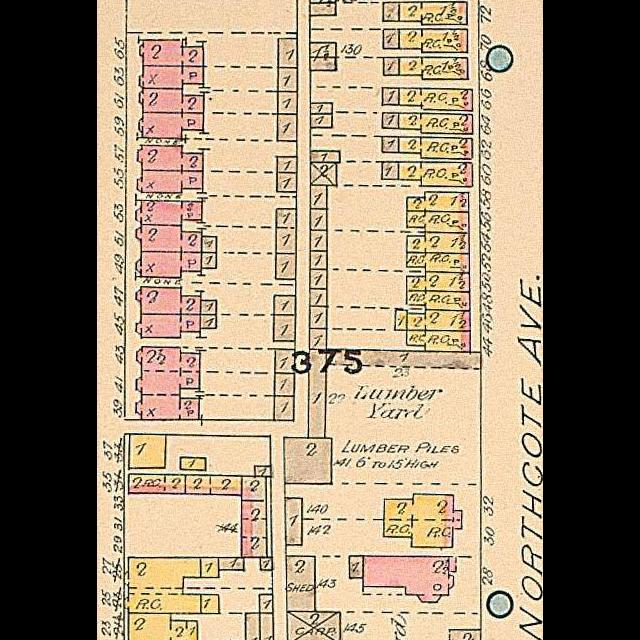building-footprints: (136, 347, 200, 419), (124, 558, 201, 614), (363, 556, 456, 602), (384, 494, 462, 547), (326, 351, 481, 368), (129, 475, 242, 495), (284, 437, 332, 484), (242, 476, 267, 557), (136, 224, 202, 253), (129, 614, 197, 640), (136, 287, 201, 314), (399, 162, 472, 186), (140, 40, 203, 67), (399, 88, 472, 111), (138, 113, 204, 138), (137, 146, 203, 171), (136, 252, 202, 277), (286, 556, 315, 612), (399, 137, 472, 159), (136, 201, 202, 225), (139, 89, 204, 113), (136, 314, 200, 338), (399, 113, 472, 134), (399, 2, 467, 24), (399, 30, 467, 52), (287, 612, 340, 640), (139, 66, 203, 89), (137, 171, 203, 193), (399, 58, 468, 79), (309, 350, 325, 438), (406, 330, 470, 352), (407, 211, 469, 233), (407, 310, 470, 331), (406, 272, 470, 292), (407, 192, 469, 212), (407, 233, 469, 253), (407, 253, 469, 273), (407, 291, 469, 311), (129, 434, 165, 468), (276, 209, 296, 253), (285, 498, 302, 545), (277, 156, 297, 192), (310, 163, 337, 186), (278, 38, 297, 68), (274, 315, 295, 341), (277, 114, 297, 141), (274, 396, 294, 421), (276, 253, 295, 279), (275, 349, 294, 373), (278, 68, 297, 92), (274, 295, 295, 315), (275, 374, 294, 396), (278, 92, 297, 114), (310, 186, 327, 209), (246, 613, 260, 640), (260, 613, 274, 640), (310, 306, 327, 328), (310, 43, 336, 57), (310, 151, 340, 163), (200, 557, 218, 577), (310, 209, 327, 230), (310, 231, 327, 251), (310, 269, 327, 289), (310, 57, 336, 70), (181, 457, 206, 470), (201, 595, 219, 613), (383, 29, 399, 49), (310, 329, 326, 349), (310, 3, 336, 15), (218, 558, 244, 570), (349, 556, 363, 578), (310, 251, 327, 269), (383, 2, 399, 21), (311, 114, 332, 128), (310, 289, 327, 306), (383, 58, 399, 75), (383, 88, 399, 105), (383, 136, 399, 153), (382, 162, 398, 179), (259, 594, 273, 613), (382, 113, 398, 129), (395, 309, 407, 330), (310, 103, 332, 114), (201, 300, 217, 315), (202, 236, 216, 253), (201, 314, 216, 328), (202, 253, 216, 268), (255, 466, 271, 476), (260, 557, 272, 570)
